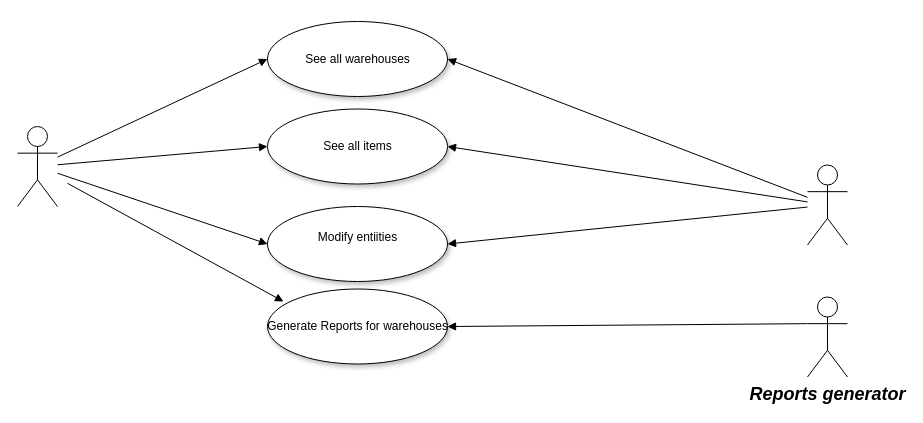
Some shapes in this 923 by 423 pixel diagram are drawn without their labels. Each missing label, with the centre of its shape:
"Data provider" belongs at point (827, 204).
"User" belongs at point (37, 166).
